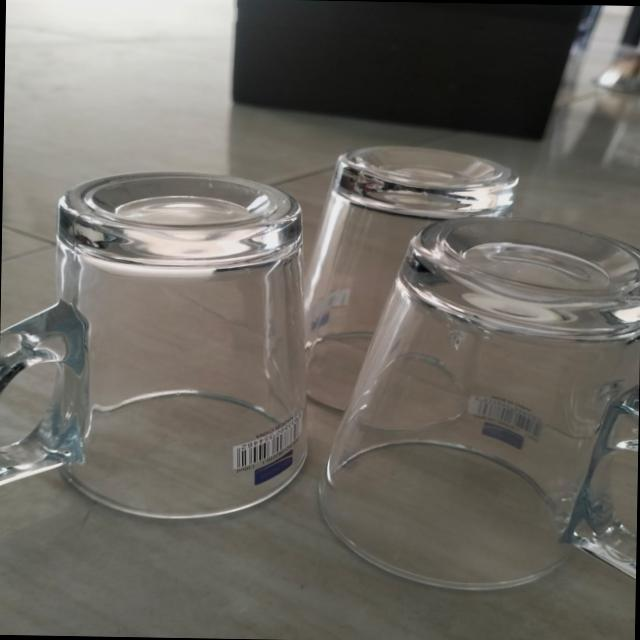glass-VX4N: (339, 215, 636, 602), (0, 170, 317, 521), (320, 147, 528, 430)
